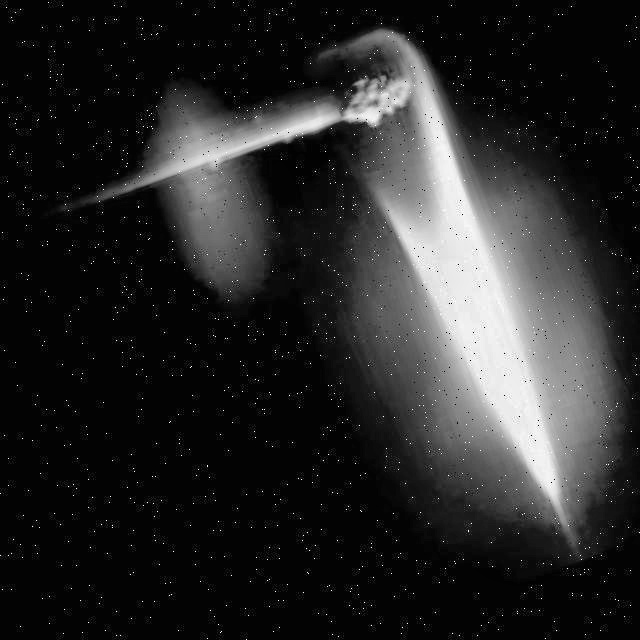Fire: (315, 13, 584, 535)
